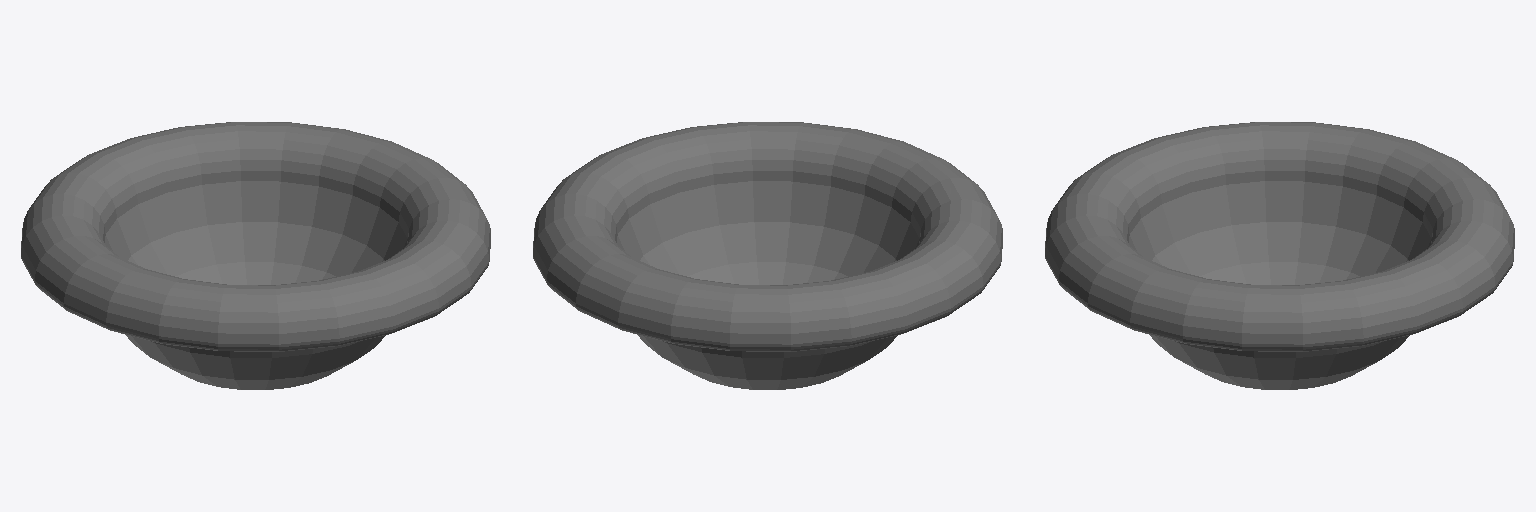
The robot description file, URDF, robot "object":
<?xml version="1.0"?>
<robot name="object">
  <link name="object">
    <visual>
      <origin xyz="0 0 0"/>
      <geometry>
        <mesh
          filename="../../mesh/oakink_virtual/bowl_s135.stl" />
      </geometry>
      <material name="mat">
        <color rgba="0.5 0.5 0.5 1"/>
      </material>
    </visual>

    <collision>
      <origin xyz="0 0 0"/>
      <geometry>
        <mesh
          filename="../../mesh/oakink_virtual/bowl_s135.stl" />
      </geometry>
    </collision>
  </link>
</robot>

--- What the picture shows (computed from the rendered views, not written in the file) ---
Views: 3 orthographic renders of the robot side by side, from view 1: azimuth 30°, elevation 25°; view 2: azimuth 150°, elevation 25°; view 3: azimuth 270°, elevation 25°.
Model object with 1 links and 0 joints (none), rooted at object, posed all joints at 0.
Visible links, largest first — view 1: object; view 2: object; view 3: object.
Boxes of the visible links, x1,y1,x2,y2 form: object: [21, 122, 490, 389]; object: [533, 122, 1002, 389]; object: [1045, 122, 1514, 389].
Size in the robot's own frame: 0.1433 by 0.1433 by 0.0559 metres.
1 mesh visuals loaded from 1 distinct referenced files (1 binary STL).